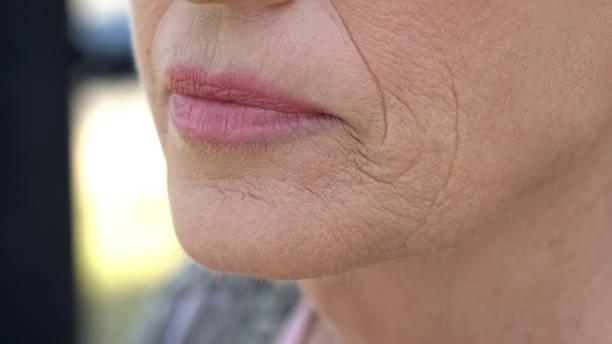Dry-Skin: (327, 5, 567, 218)
